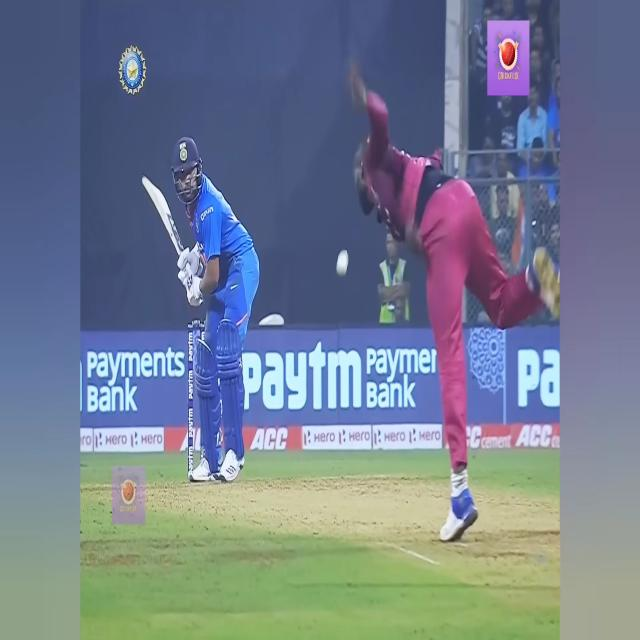fully_visible: (242, 344, 361, 427)
